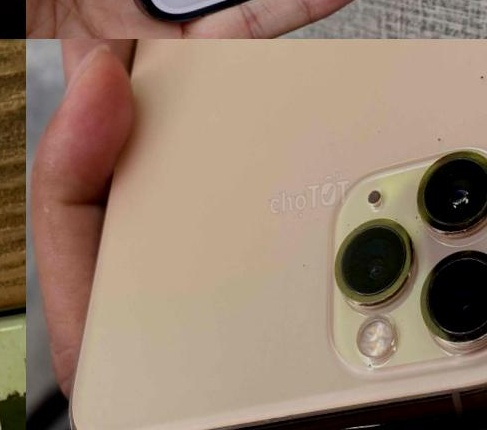scratch: (317, 195, 427, 303), (411, 139, 487, 236), (458, 53, 487, 86), (423, 127, 451, 147)
